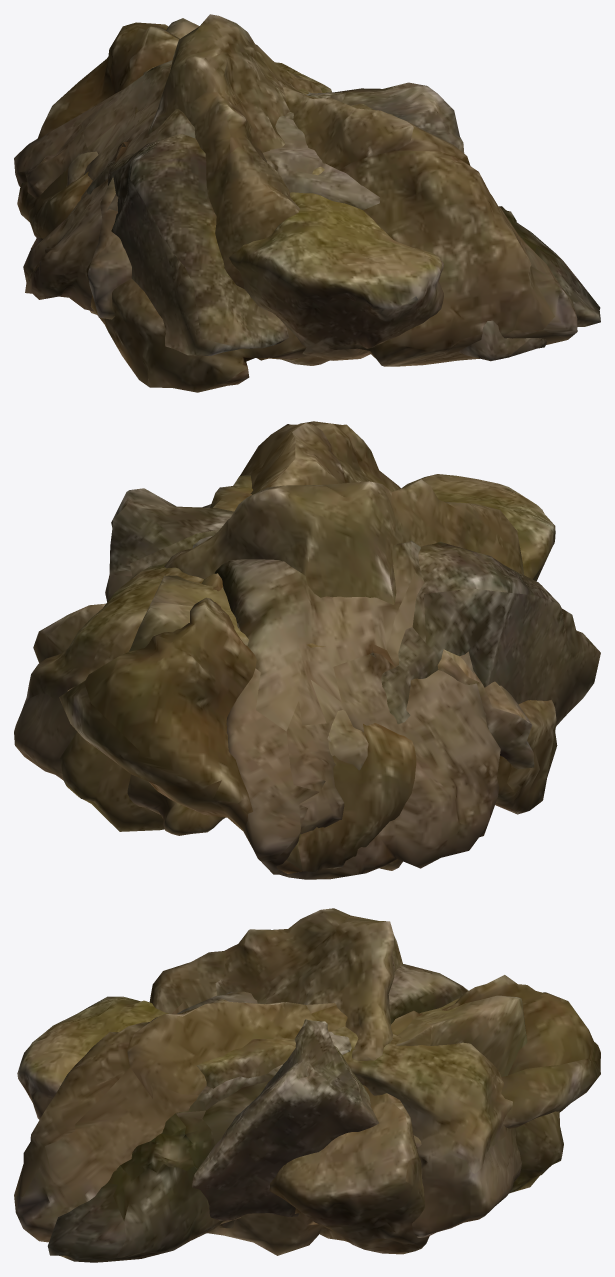
The model's file is rock_moss.glb.
The picture shows the model from 3 angles, top to bottom: view 1: azimuth 30°, elevation 25°; view 2: azimuth 150°, elevation 25°; view 3: azimuth 270°, elevation 25°; orthographic projection. The views are drawn at different scales.
Parts seen in each view (by area): view 1: rock_moss_set_01_rock01, rock_moss_set_01_rock03, rock_moss_set_01_rock05, rock_moss_set_01_rock02, rock_moss_set_01_rock04, rock_moss_set_01_rock06; view 2: rock_moss_set_01_rock02, rock_moss_set_01_rock01, rock_moss_set_01_rock03, rock_moss_set_01_rock04, rock_moss_set_01_rock05, rock_moss_set_01_rock06; view 3: rock_moss_set_01_rock01, rock_moss_set_01_rock04, rock_moss_set_01_rock05, rock_moss_set_01_rock02, rock_moss_set_01_rock03, rock_moss_set_01_rock06.
Boxes of the visible parts, x1,y1,x2,y2 form: rock_moss_set_01_rock01: (17,22,577,392); rock_moss_set_01_rock03: (86,82,464,355); rock_moss_set_01_rock05: (66,62,443,365); rock_moss_set_01_rock02: (14,60,600,361); rock_moss_set_01_rock04: (90,14,322,314); rock_moss_set_01_rock06: (87,18,395,319); rock_moss_set_01_rock02: (192,504,500,879); rock_moss_set_01_rock01: (59,421,557,873); rock_moss_set_01_rock03: (105,488,600,726); rock_moss_set_01_rock04: (33,479,523,870); rock_moss_set_01_rock05: (14,474,555,835); rock_moss_set_01_rock06: (60,474,534,831); rock_moss_set_01_rock01: (14,975,600,1255); rock_moss_set_01_rock04: (149,908,429,1254); rock_moss_set_01_rock05: (17,996,521,1237); rock_moss_set_01_rock02: (47,964,468,1262); rock_moss_set_01_rock03: (192,1019,421,1220); rock_moss_set_01_rock06: (196,995,563,1193).
Bounding box in the file's own units: 2.65 × 1.77 × 3.36.
1 material, 1 textured.
